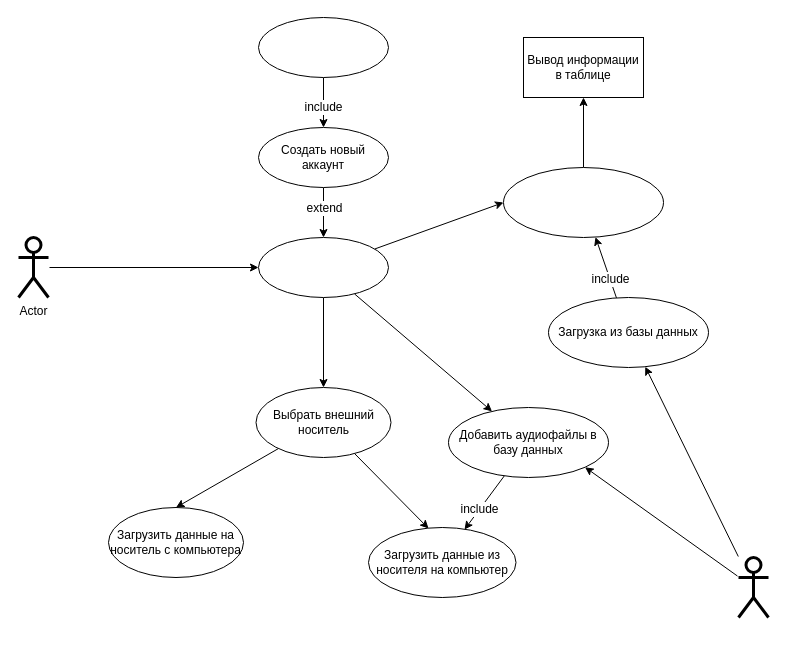
This 795x656 diagram has some shape labels left out. Here are the shapes that lost their labels. From the top down, the centre of each, then its label:
At [323,47]: "Переход на сайт".
At [583,202]: "Получить информацию о медиатеке".
At [323,267]: "Авторизироваться в системе".
At [753,587]: "Система".
